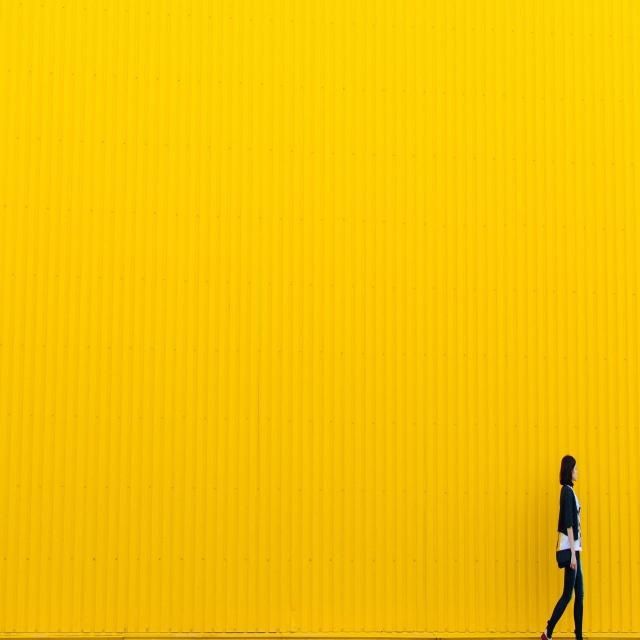person: (535, 432, 598, 640)
